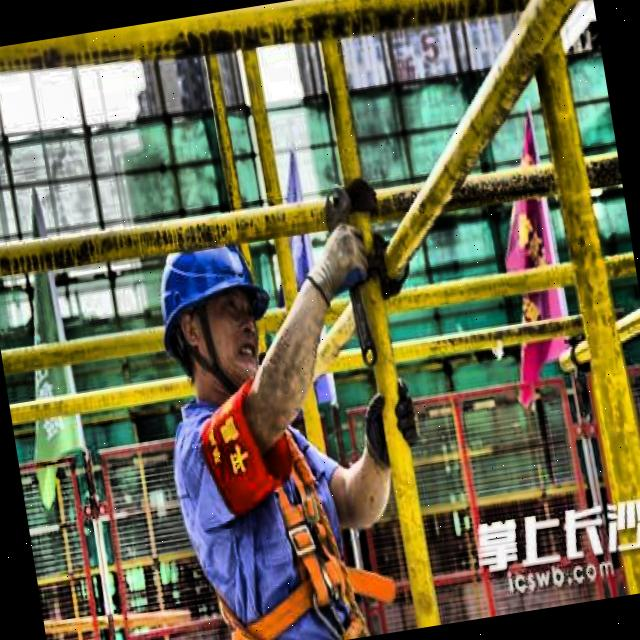helmet: (134, 218, 294, 412)
